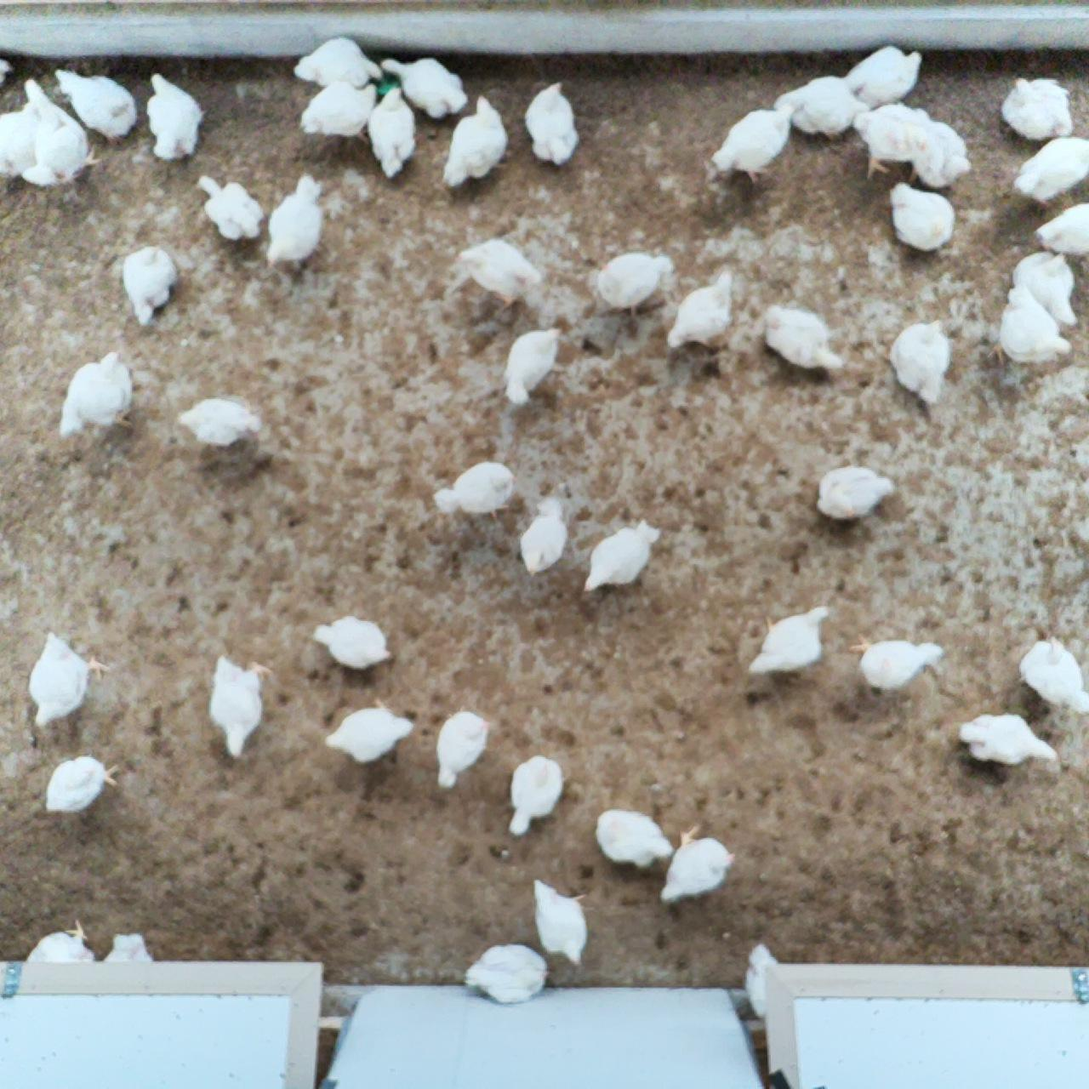chicken: (21, 72, 101, 195), (708, 97, 805, 183), (31, 627, 111, 730), (204, 653, 276, 762), (58, 350, 138, 442), (991, 286, 1074, 372), (954, 708, 1061, 774), (449, 236, 544, 309), (48, 65, 137, 142), (443, 91, 512, 190), (323, 694, 416, 767), (582, 514, 664, 594), (847, 98, 927, 179), (593, 249, 679, 324), (264, 171, 329, 269), (659, 821, 735, 904), (841, 41, 923, 116), (144, 65, 206, 164), (774, 73, 868, 138), (745, 606, 832, 676), (528, 876, 592, 970), (846, 631, 946, 691), (760, 300, 842, 373), (1017, 635, 1089, 718), (461, 940, 549, 1007), (884, 319, 951, 406), (381, 55, 469, 121), (664, 270, 735, 351), (361, 83, 419, 182), (1011, 130, 1089, 202), (905, 107, 974, 188), (814, 461, 898, 527), (593, 805, 675, 871), (430, 704, 492, 790), (885, 177, 956, 252), (1011, 250, 1079, 328), (432, 460, 520, 520), (504, 323, 566, 408), (121, 244, 181, 329), (507, 753, 567, 838), (309, 614, 395, 673), (294, 32, 384, 88), (299, 78, 379, 141), (1001, 75, 1075, 143), (43, 753, 121, 817), (25, 920, 94, 992), (526, 81, 581, 166), (195, 173, 263, 241), (176, 395, 263, 447), (94, 933, 159, 999), (516, 496, 571, 574), (0, 97, 46, 184), (1032, 198, 1089, 260), (0, 50, 17, 96)
